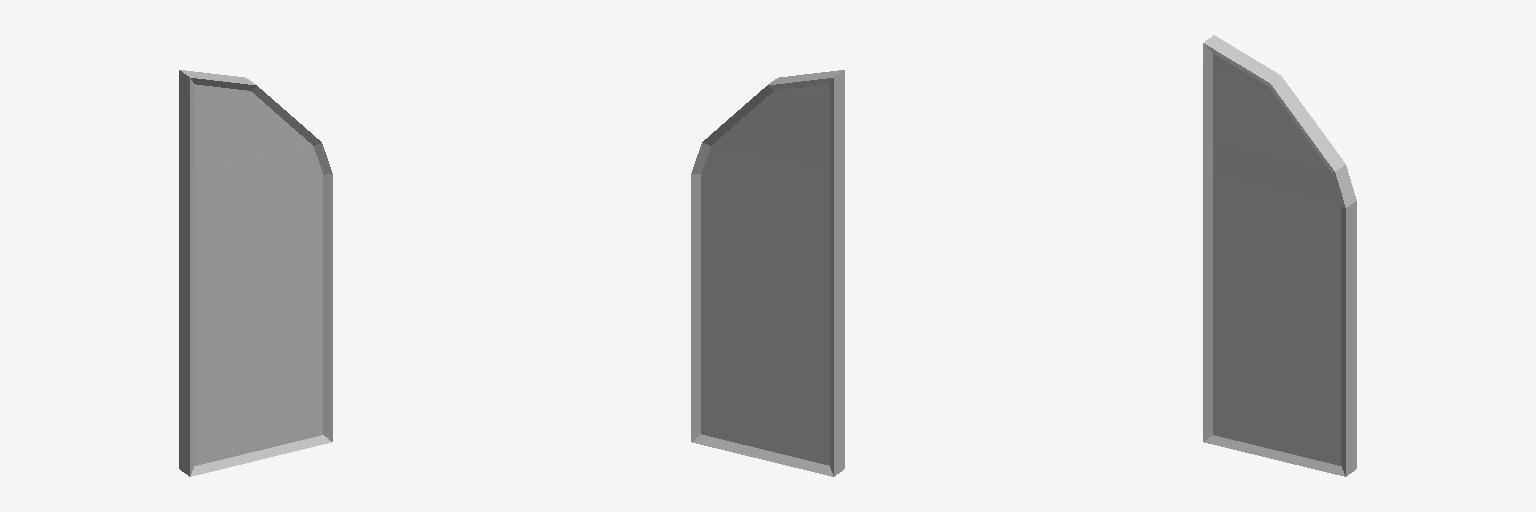
Rendered from churchDoor.obj.
The picture shows the model from 3 angles: view 1: azimuth 30°, elevation 25°; view 2: azimuth 150°, elevation 25°; view 3: azimuth 330°, elevation 25°; orthographic projection.
Parts seen in each view (by area): view 1: puerta_Cube_Cube.003; view 2: puerta_Cube_Cube.003; view 3: puerta_Cube_Cube.003.
Part boxes in pixels (x1,y1,x2,y2): puerta_Cube_Cube.003: (179,70,332,476); puerta_Cube_Cube.003: (691,70,844,476); puerta_Cube_Cube.003: (1203,35,1356,476).
Size of the model in its own units: 8.22 by 21.99 by 1.09.